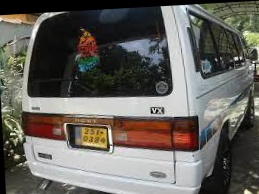van: (16, 1, 259, 194)
